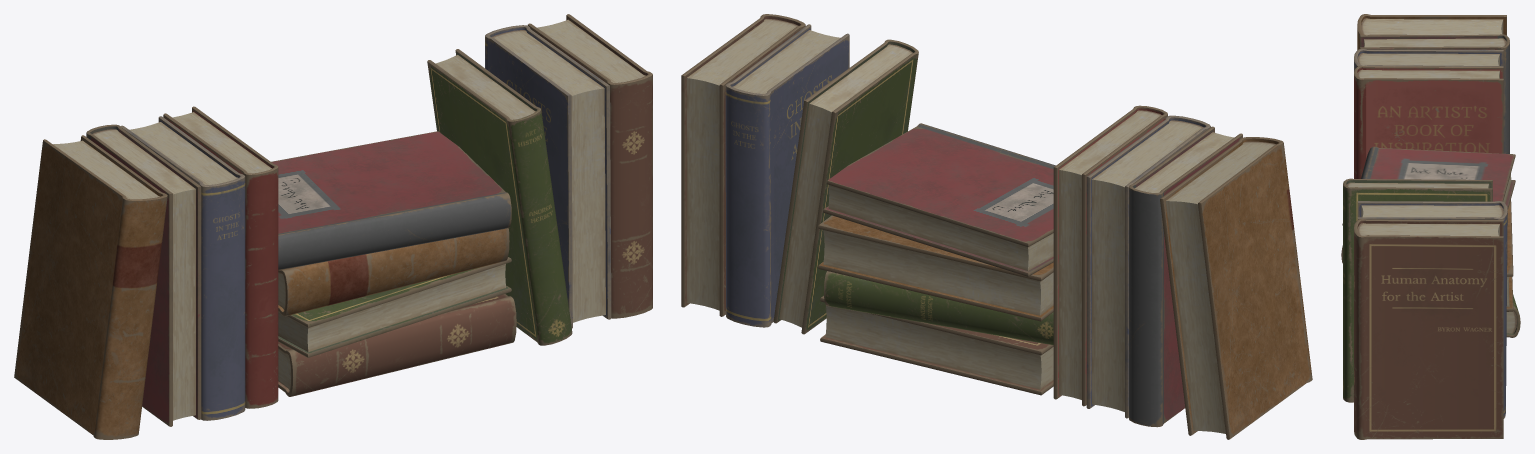
3 views of the same model, side by side, from view 1: azimuth 30°, elevation 25°; view 2: azimuth 150°, elevation 25°; view 3: azimuth 270°, elevation 25° (orthographic). The views are drawn at different scales.
Visible parts, largest first — view 1: OldBooksPiles_01a.003; view 2: OldBooksPiles_01a.003; view 3: OldBooksPiles_01a.003.
Boxes of the visible parts, <box> form: OldBooksPiles_01a.003: <box>14,14,652,439</box>; OldBooksPiles_01a.003: <box>681,14,1312,439</box>; OldBooksPiles_01a.003: <box>1341,14,1520,439</box>.
Size of the model in its own units: 86.94 by 35.87 by 28.06.
1 material, 1 textured.
